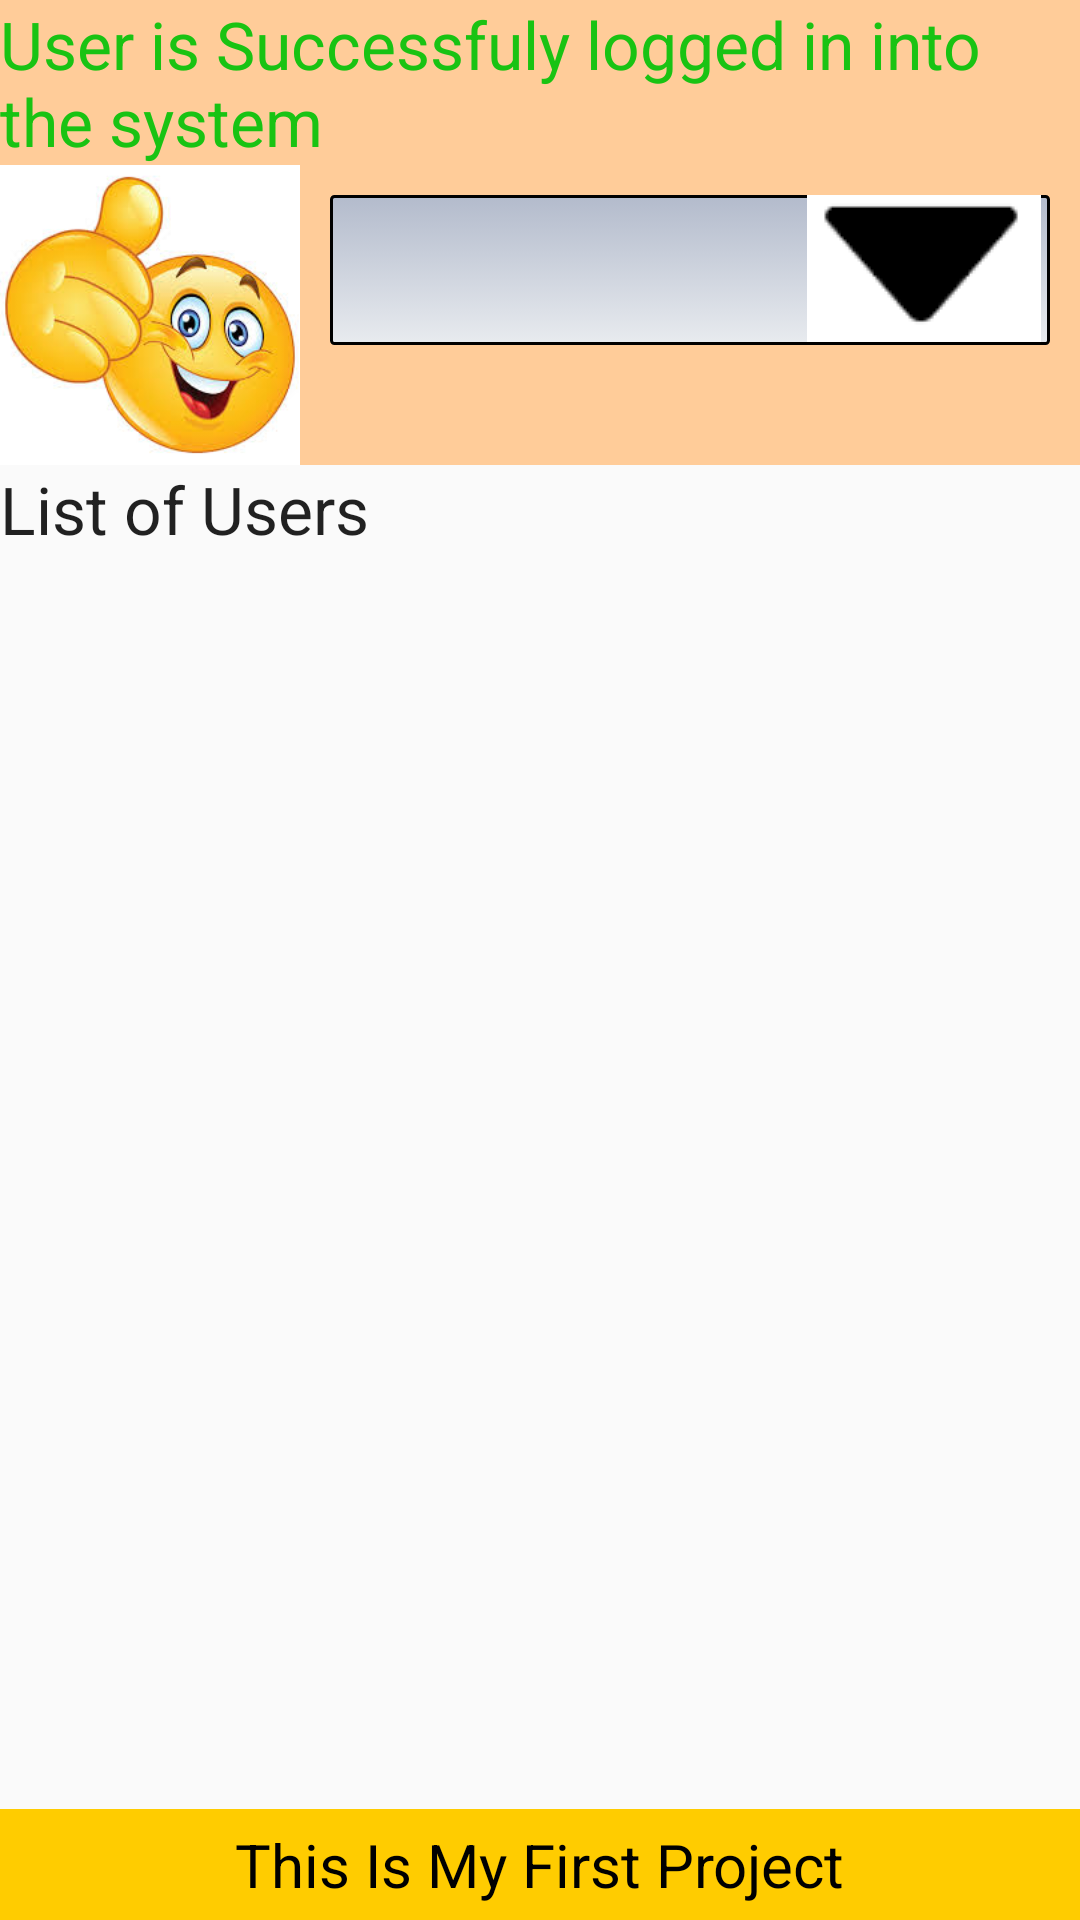

Point at icon controls on the screen. Image size 1080w x 1920h, points as (x=x, y=y).
thumbsup: (x=150, y=315)
